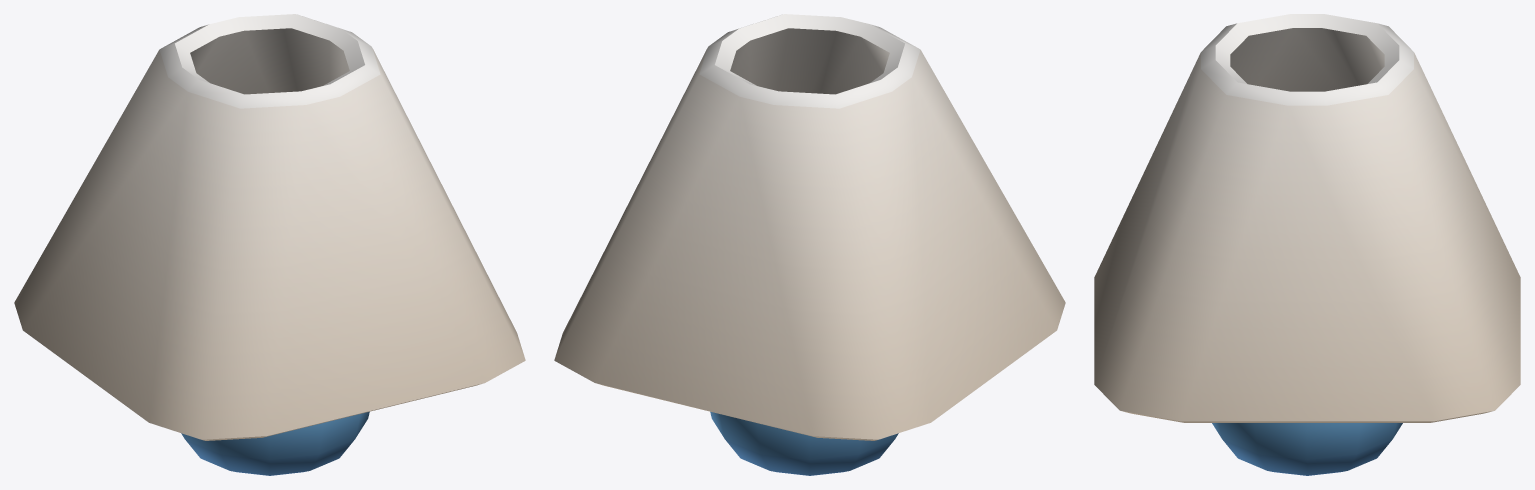
3 renders of one model, left to right at view 1: azimuth 30°, elevation 25°; view 2: azimuth 150°, elevation 25°; view 3: azimuth 270°, elevation 25°, orthographic.
Visible parts, largest first — view 1: lamp_table; view 2: lamp_table; view 3: lamp_table.
Part boxes in pixels (x1,y1,x2,y2): lamp_table: (14, 14, 525, 475); lamp_table: (554, 14, 1065, 475); lamp_table: (1094, 14, 1520, 475).
Size of the model in its own units: 1 by 1.02 by 1.
1 material, 1 textured.
